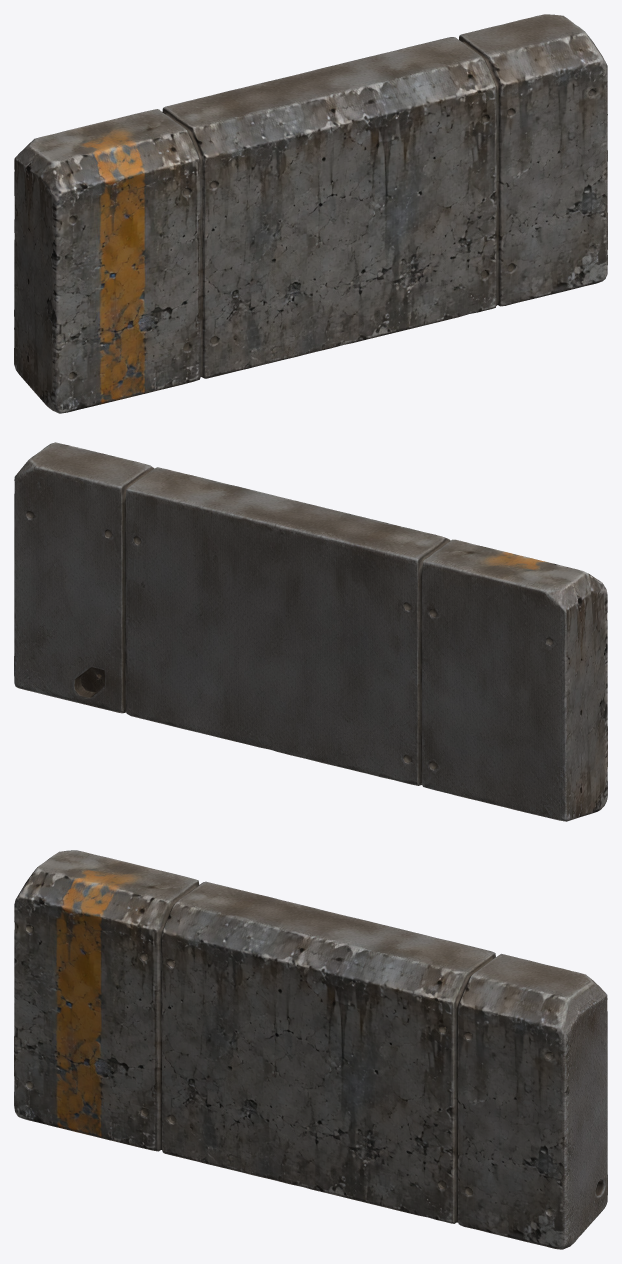
File: ENV-WALLKIT-PANEL-lod0.glb
The picture shows the model from 3 angles, top to bottom: view 1: azimuth 30°, elevation 25°; view 2: azimuth 150°, elevation 25°; view 3: azimuth 330°, elevation 25°; orthographic projection.
Parts seen in each view (by area): view 1: Mesh; view 2: Mesh; view 3: Mesh.
Boxes of the visible parts, x1=… form: Mesh: x1=14, y1=14, x2=607, y2=413; Mesh: x1=14, y1=442, x2=607, y2=821; Mesh: x1=14, y1=850, x2=607, y2=1249.
Bounding box in the file's own units: 1.9 × 0.7956 × 0.2568.
Materials: 1 (1 with a texture image).
